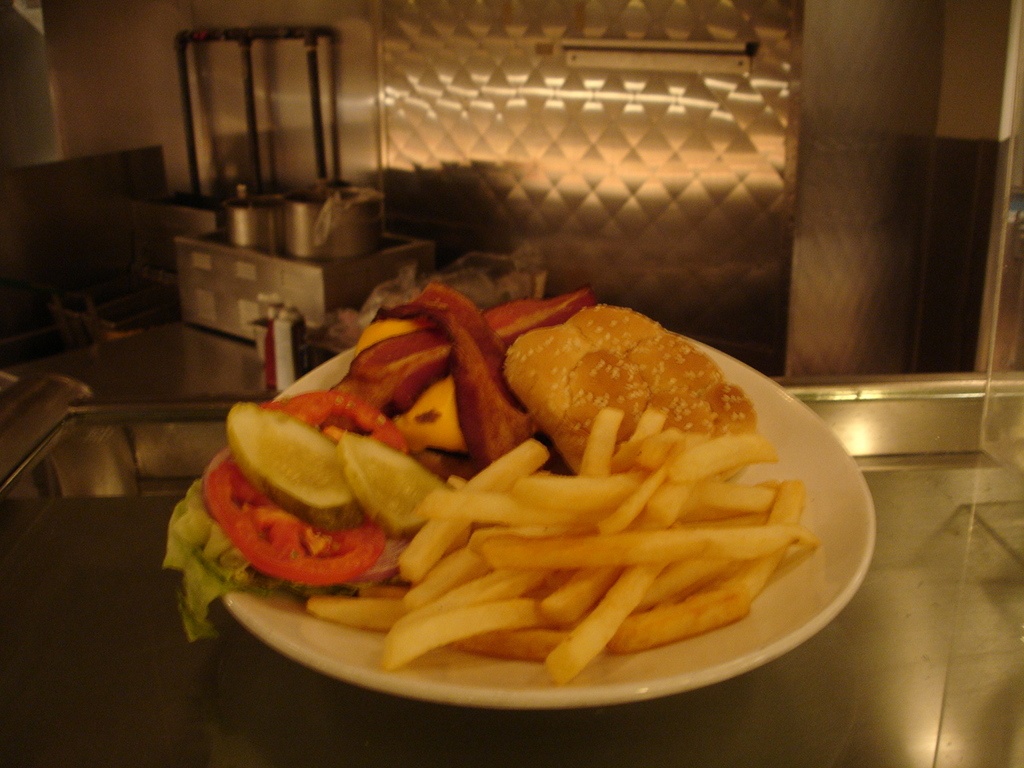French fries: (291, 406, 835, 675)
